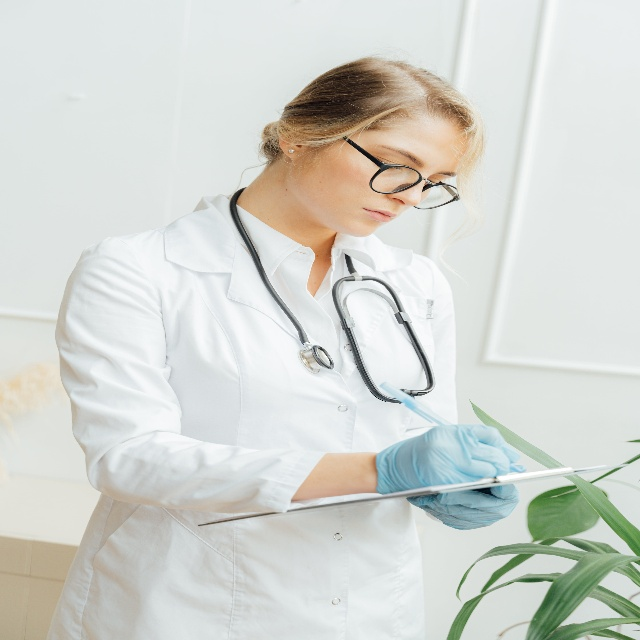Gafas: (343, 133, 461, 210)
Guantes: (374, 421, 526, 495), (406, 480, 521, 531)
